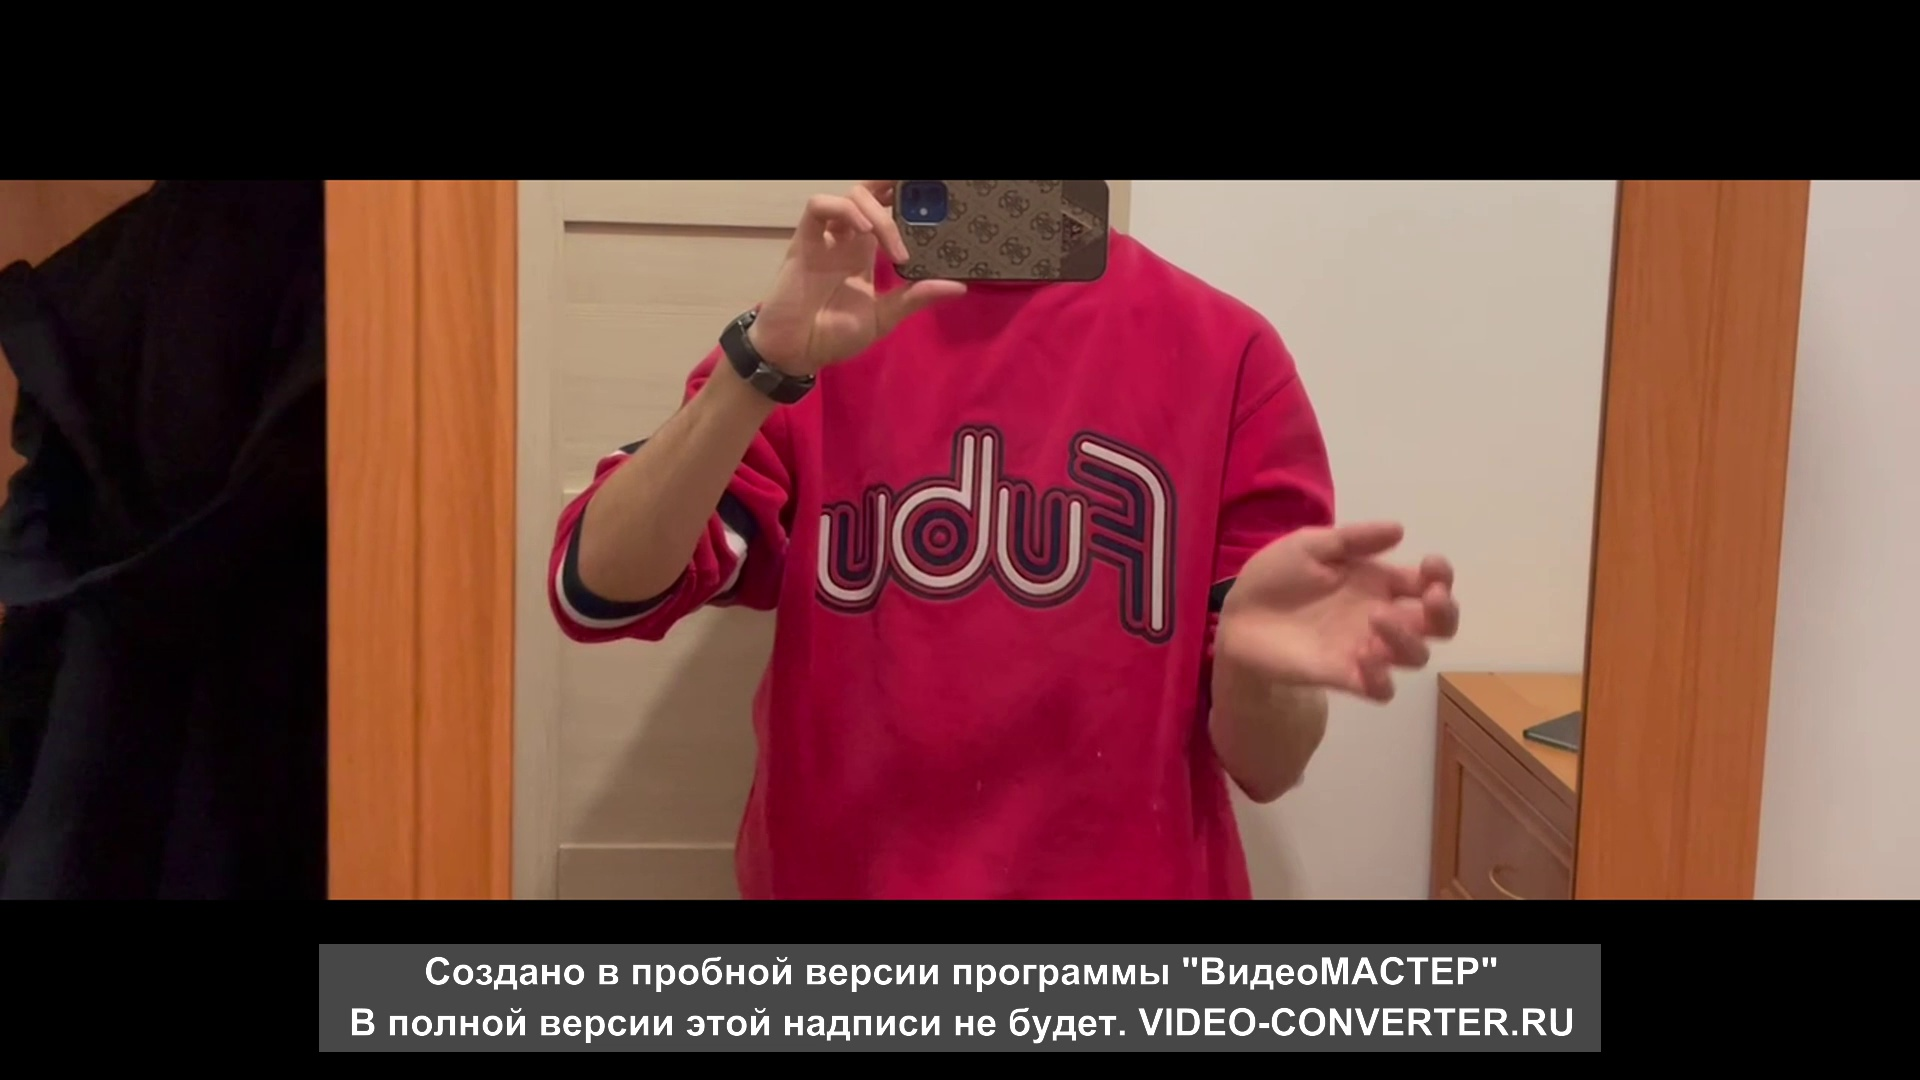Ладонь: (1232, 517, 1458, 704)
